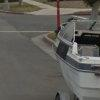Boat: (45, 16, 100, 100)
